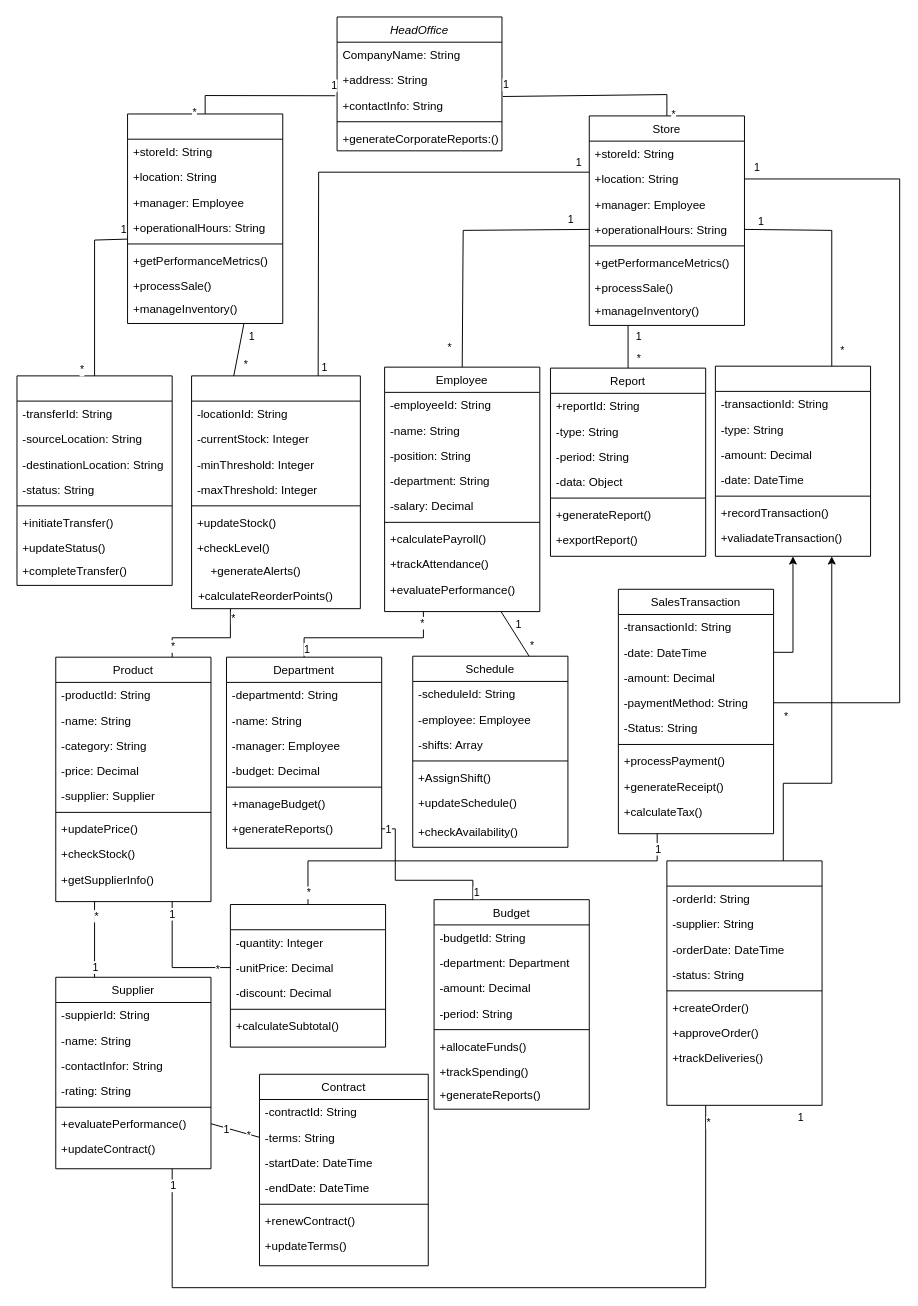
Some shapes in this 918 by 1306 pixel diagram are drawn without their labels. Here are the shapes that lost their labels. From the top down, the box of each, then its label:
(127, 113, 283, 323): Warehouse
(16, 375, 172, 585): StockTransfer
(714, 365, 871, 556): Financial Transaction
(191, 375, 360, 609): Inventory
(229, 904, 386, 1047): SalesLineItem
(666, 860, 822, 1105): PurchaseOrder
